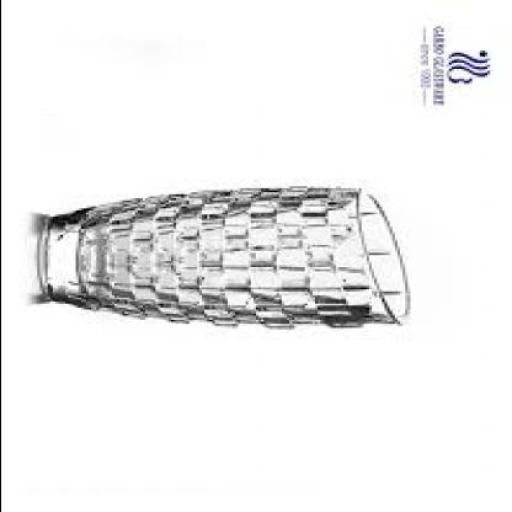glass: (44, 186, 414, 326)
